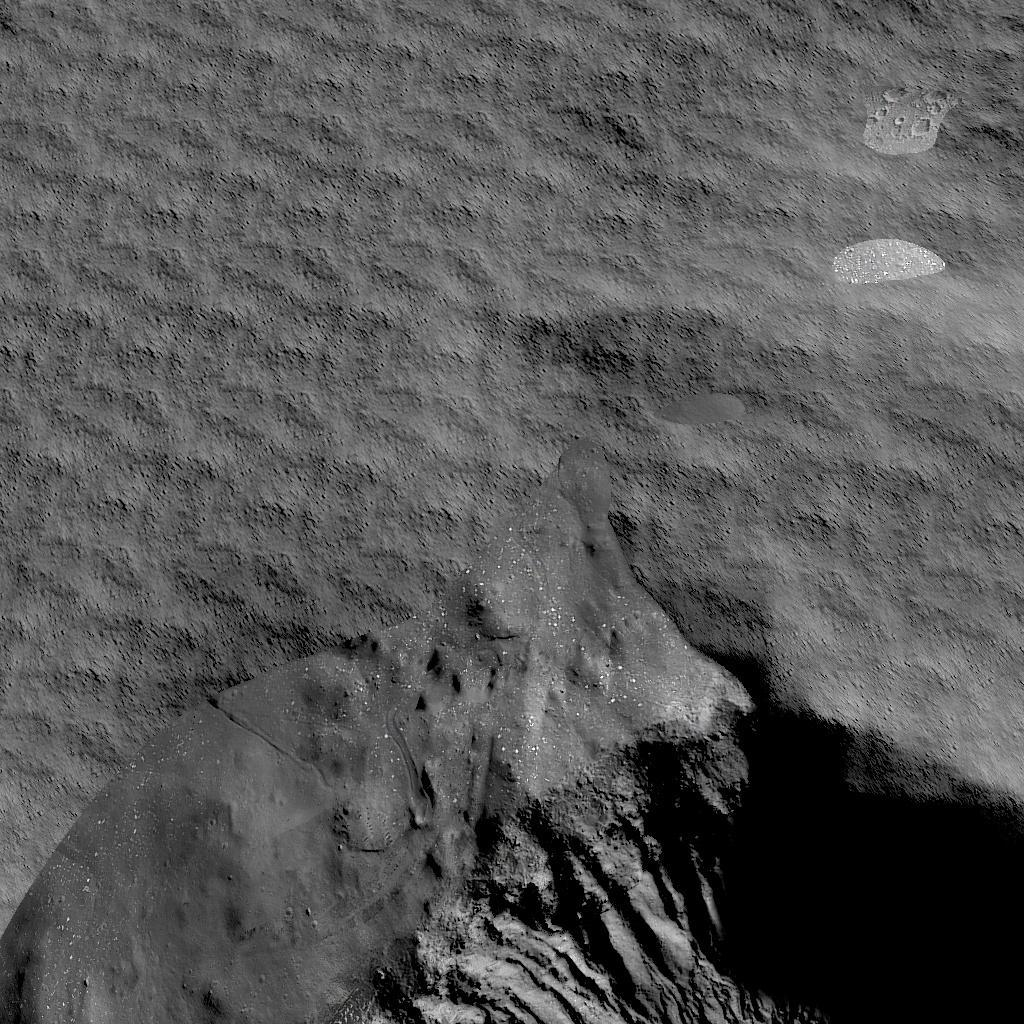Crater: (0, 630, 1024, 1024)
Plan surface: (0, 0, 1024, 618)
